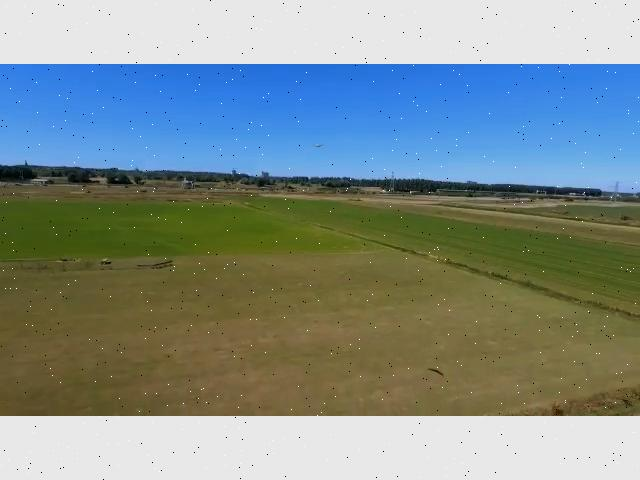Anti-Drone: (300, 132, 334, 158)
